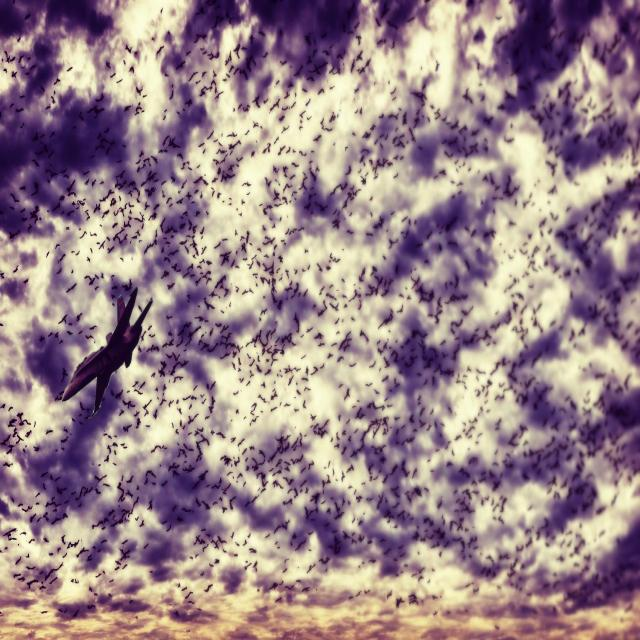airplane: (59, 286, 152, 420)
